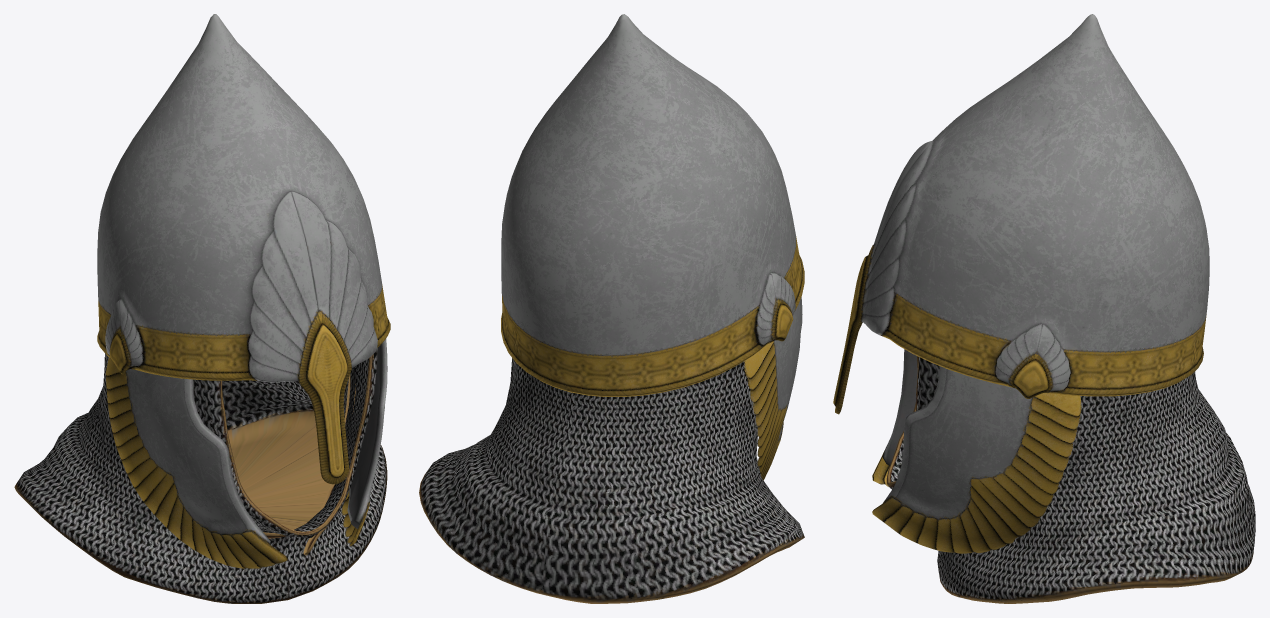
Rendered from pelargirmarine_helmet_1_a_coif.fbx.
3 renders of one model, left to right at view 1: azimuth 30°, elevation 25°; view 2: azimuth 150°, elevation 25°; view 3: azimuth 270°, elevation 25°, orthographic. The views are drawn at different scales.
Visible parts, largest first — view 1: pelargirmarine_helmet_1_a_coif; view 2: pelargirmarine_helmet_1_a_coif; view 3: pelargirmarine_helmet_1_a_coif.
Part boxes in pixels (x1,y1,x2,y2): pelargirmarine_helmet_1_a_coif: (14, 14, 390, 603); pelargirmarine_helmet_1_a_coif: (419, 14, 804, 603); pelargirmarine_helmet_1_a_coif: (833, 14, 1255, 603).
Bounding box in the file's own units: 0.2963 × 0.3079 × 0.4516.
Materials: 1 (1 with a texture image).
